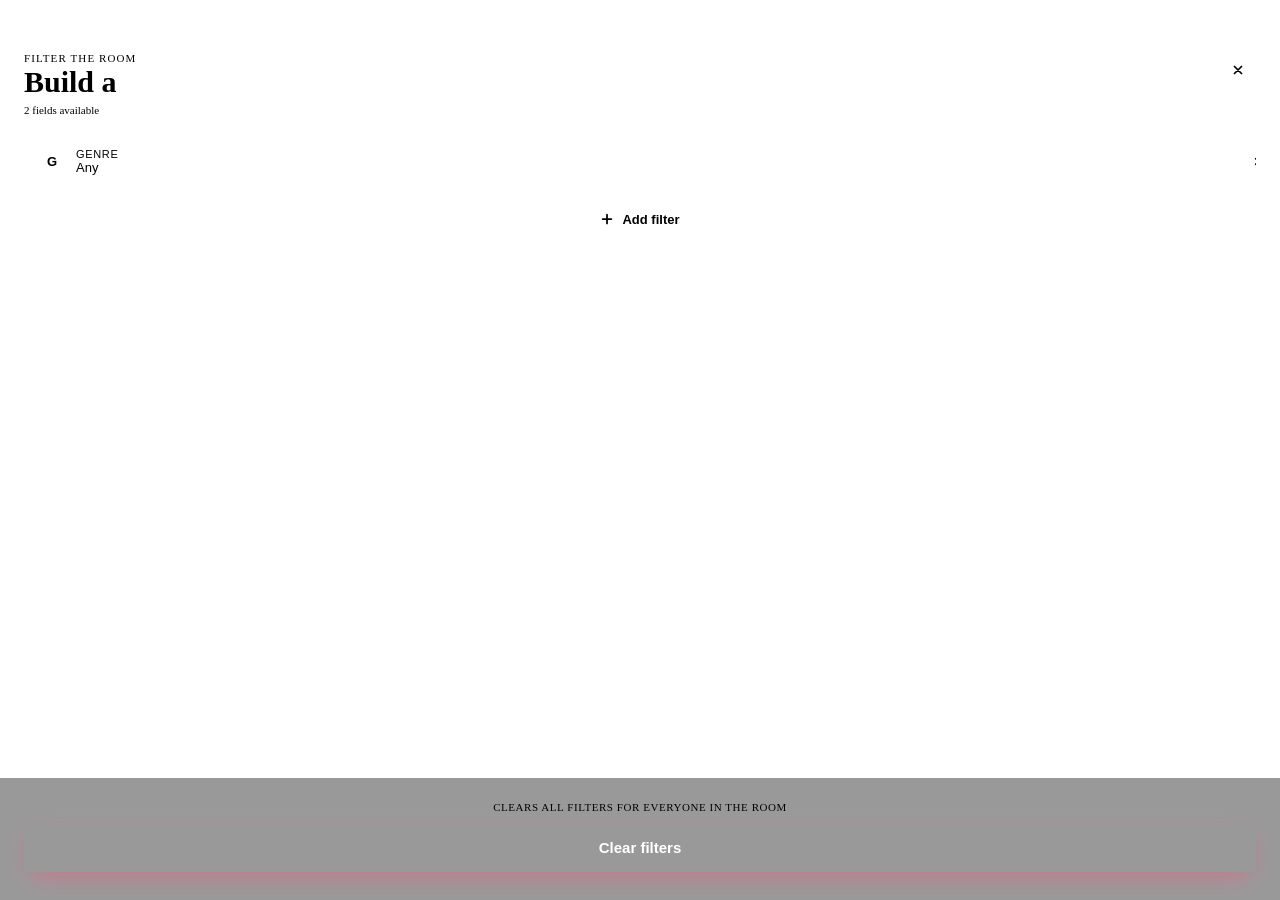
Test: FilterPanel: a row whose values failed to load › shows the failure and a Retry instead of spinning on "Loading values"
Step 1. Click the button "G Genre Any" → (97, 154), box x1=38 y1=148 x2=1237 y2=176
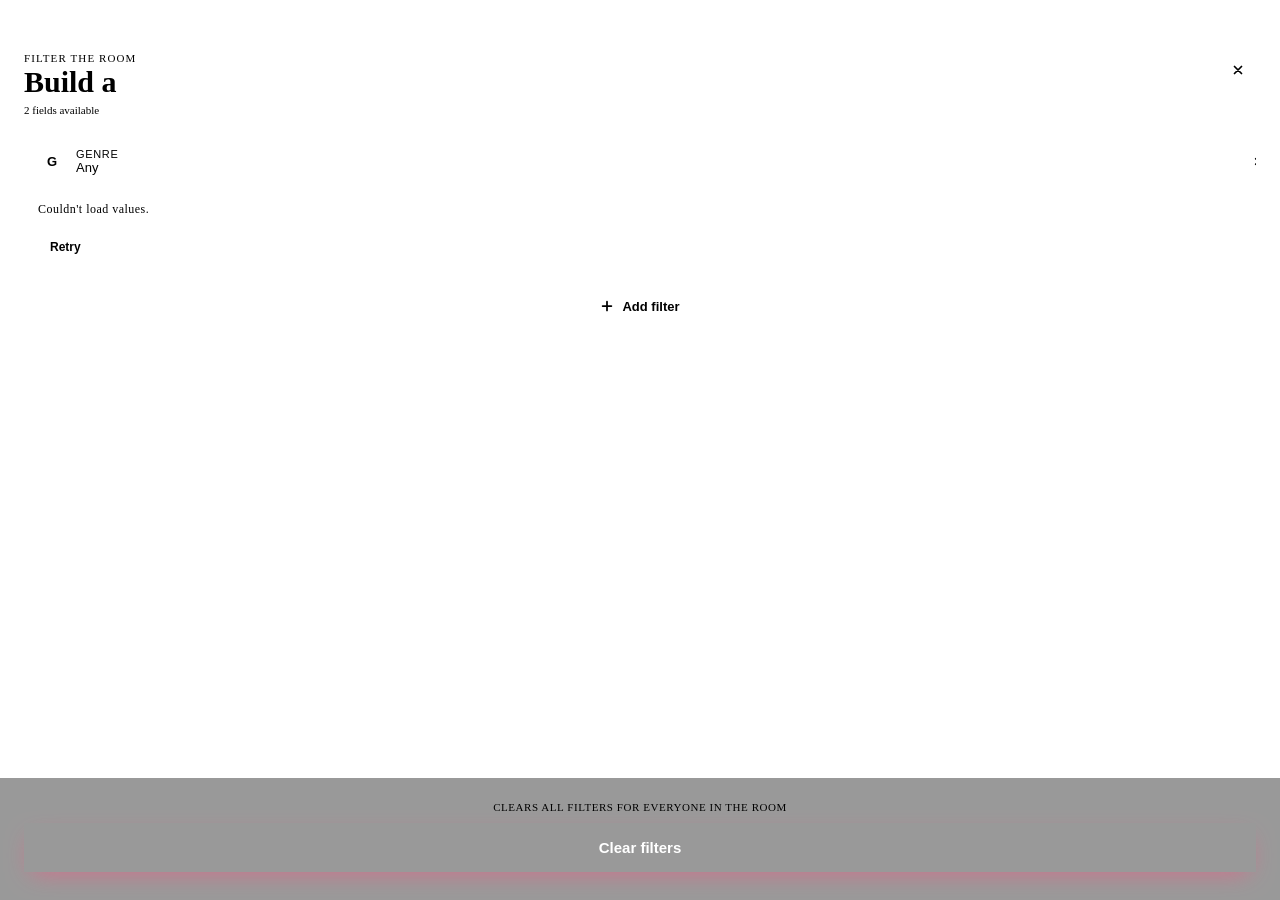
Result: the text "Couldn't load values." is shown at x1=38 y1=202 x2=149 y2=216
Result: the button "Retry" is shown at x1=38 y1=232 x2=93 y2=260
